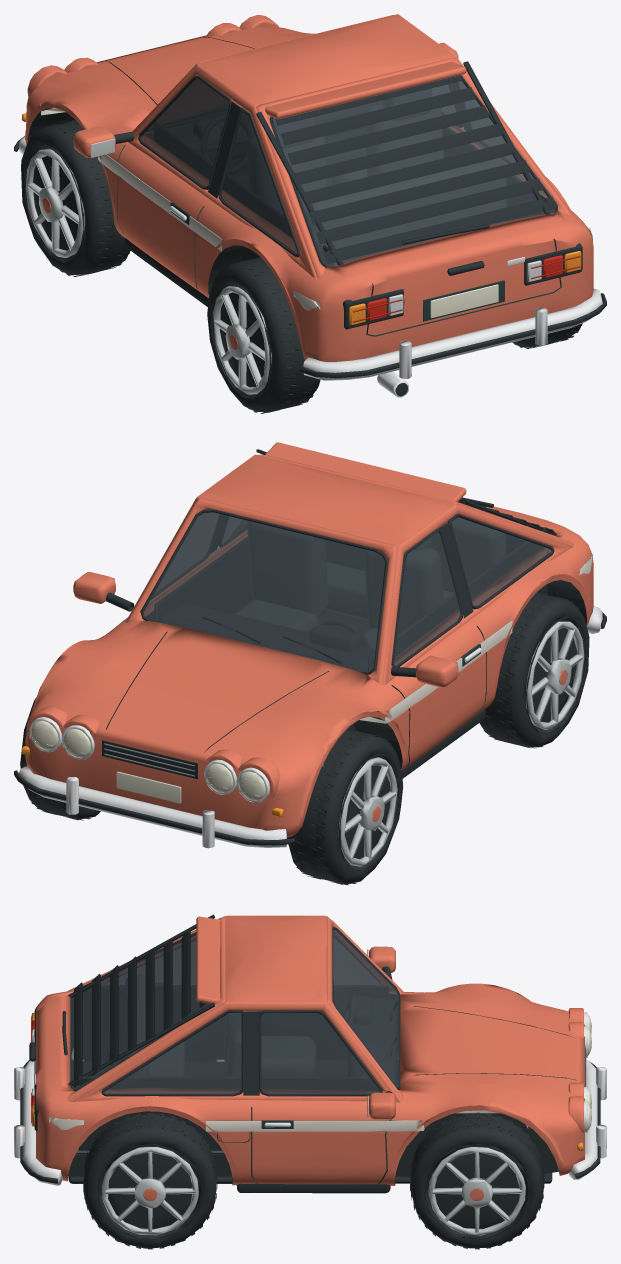
The model's file is otter_lod2.fbx.
3 renders of one model, top to bottom at view 1: azimuth 30°, elevation 25°; view 2: azimuth 150°, elevation 25°; view 3: azimuth 270°, elevation 25°, orthographic. The views are drawn at different scales.
Parts seen in each view (by area): view 1: Body, Wheel_RL_Mesh, Wheel_FL_Mesh, Wheel_RR_Mesh; view 2: Body, Wheel_FL_Mesh, Wheel_RL_Mesh, Wheel_FR_Mesh; view 3: Body, Wheel_FR_Mesh, Wheel_RR_Mesh.
Part boxes in pixels (x1,y1,x2,y2): Body: (14, 14, 606, 397); Wheel_RL_Mesh: (207, 257, 320, 413); Wheel_FL_Mesh: (21, 119, 130, 276); Wheel_RR_Mesh: (512, 323, 582, 348); Body: (14, 442, 606, 848); Wheel_FL_Mesh: (286, 728, 403, 885); Wheel_RL_Mesh: (479, 592, 589, 748); Wheel_FR_Mesh: (20, 697, 100, 820); Body: (14, 914, 606, 1193); Wheel_FR_Mesh: (410, 1112, 544, 1249); Wheel_RR_Mesh: (83, 1112, 217, 1249).
Size of the model in its own units: 231 by 158 by 363.
